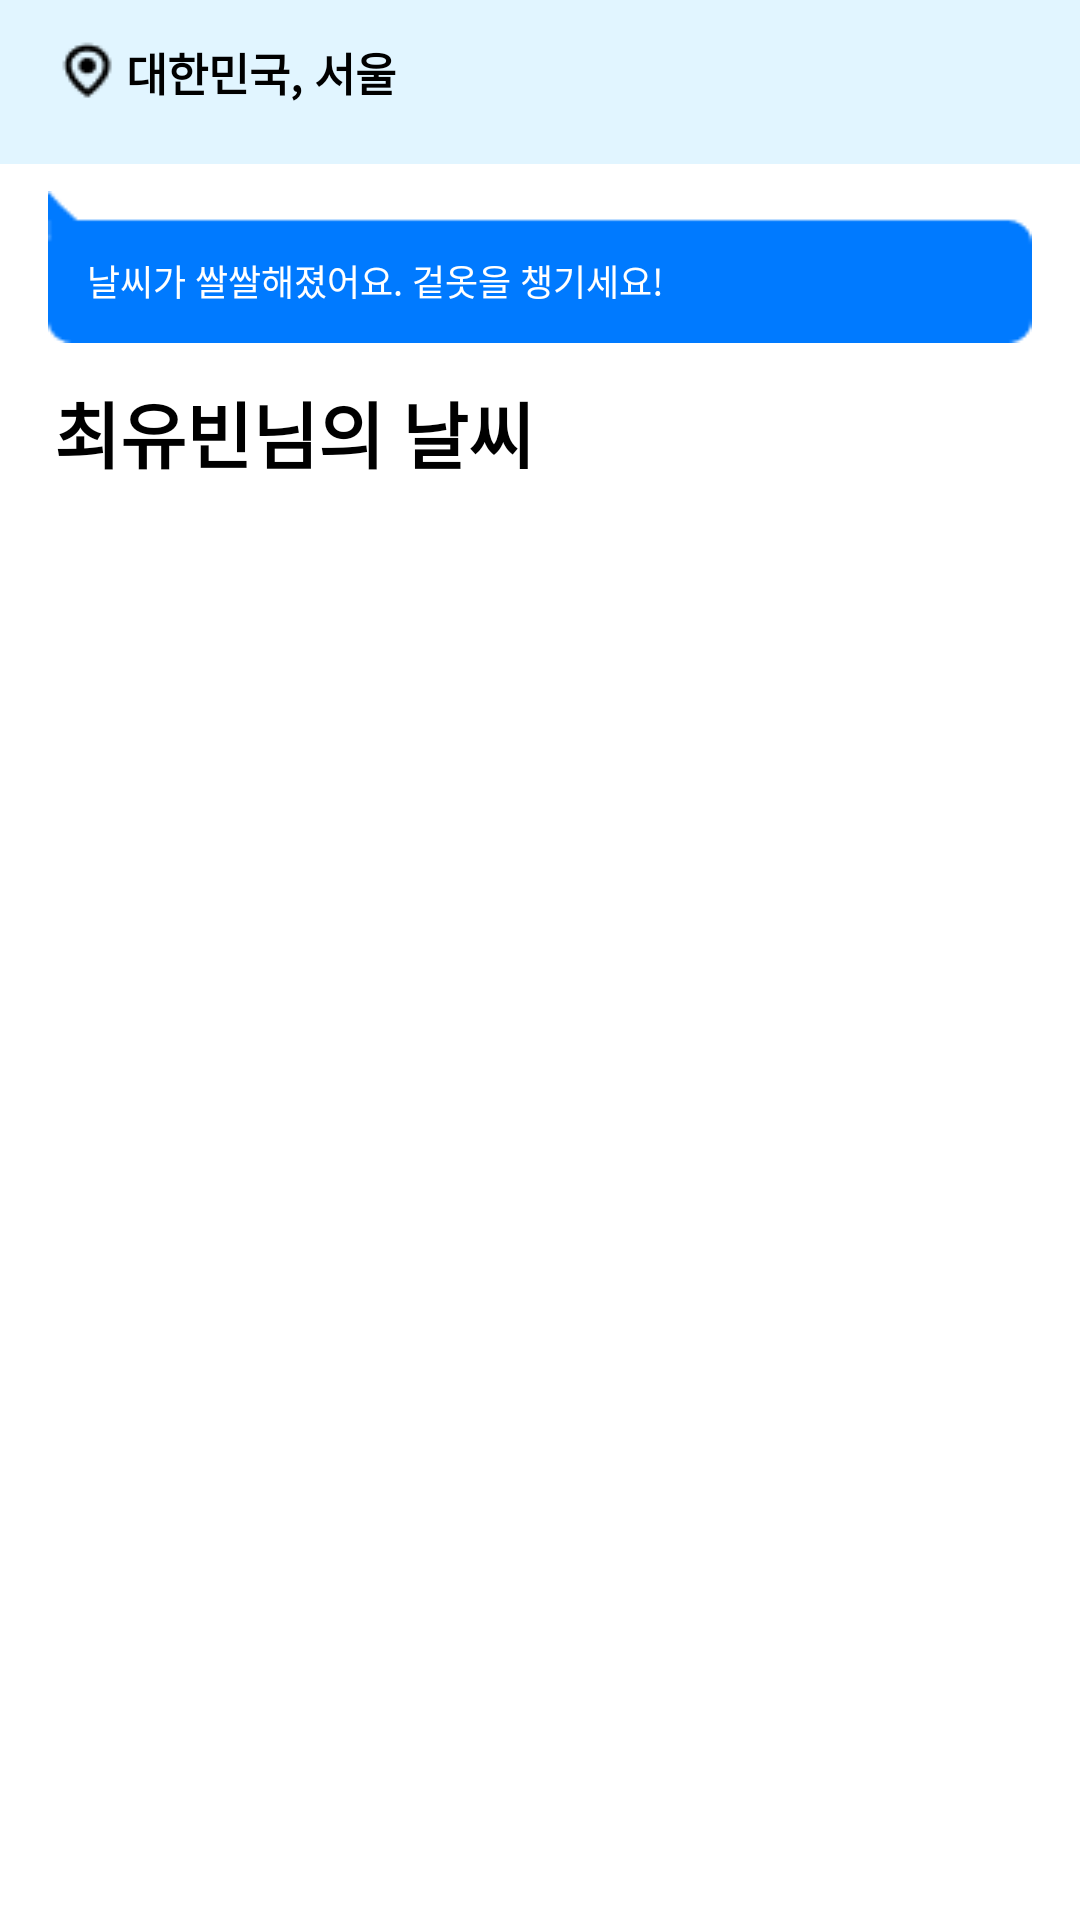

Icons on this 1080 x 1920 Android screen, each with the point to tap as (x,y):
location: (87,70)
